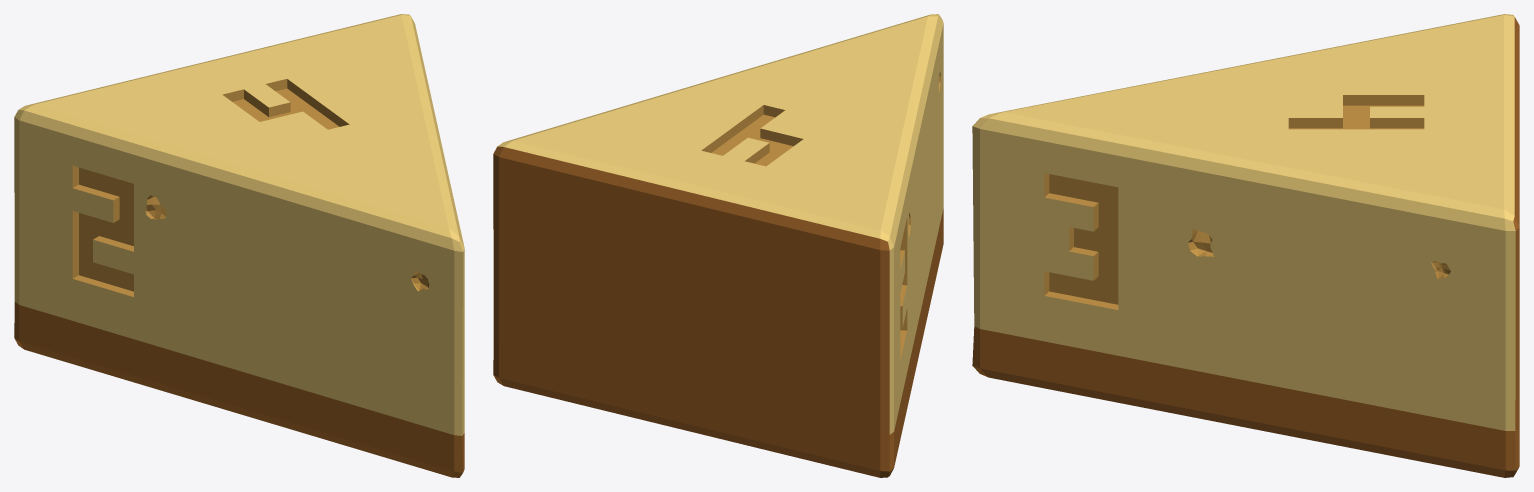
File: Die_Parmesan_d4.fbx
3 renders of one model, left to right at view 1: azimuth 30°, elevation 25°; view 2: azimuth 150°, elevation 25°; view 3: azimuth 270°, elevation 25°, orthographic. The views are drawn at different scales.
Parts seen in each view (by area): view 1: Die_Parmesan_d4; view 2: Die_Parmesan_d4; view 3: Die_Parmesan_d4.
Part boxes in pixels (x1,y1,x2,y2): Die_Parmesan_d4: [14, 14, 464, 477]; Die_Parmesan_d4: [493, 14, 943, 477]; Die_Parmesan_d4: [972, 14, 1519, 477].
Size of the model in its own units: 1.29 by 0.7644 by 1.42.
